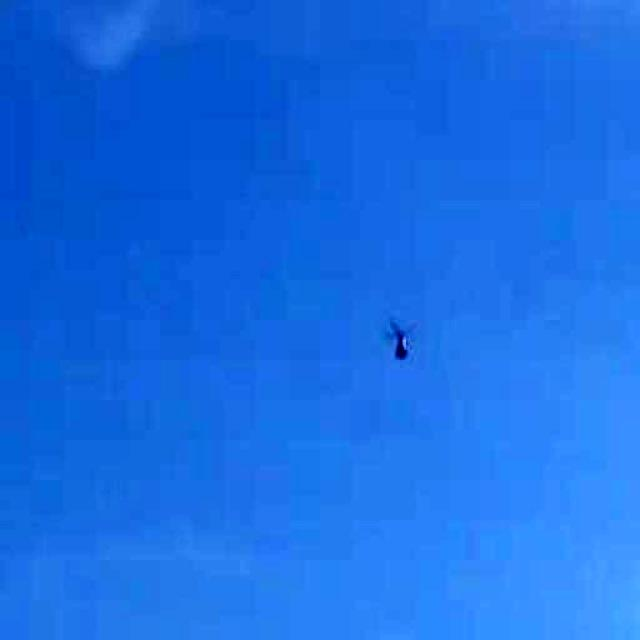drone: (361, 298, 441, 379)
